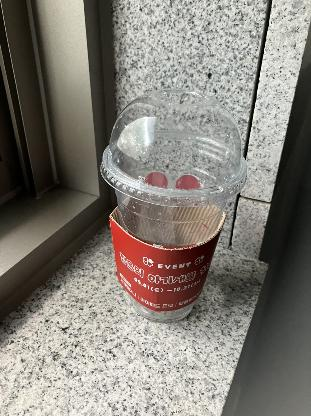Plastic Cup: (100, 88, 251, 340), (102, 89, 250, 207)
